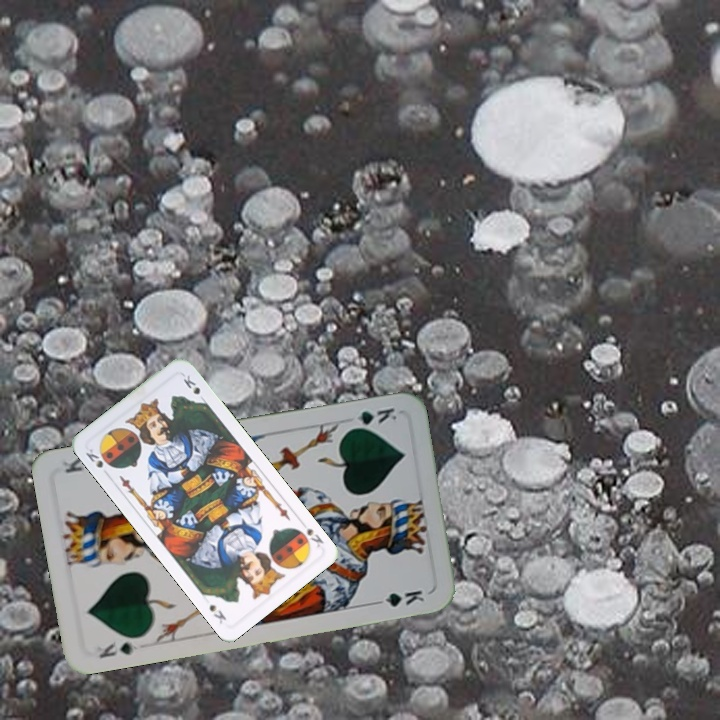GK: (344, 404, 400, 433), (92, 637, 140, 661)
SK: (292, 518, 326, 551), (81, 444, 106, 471)
